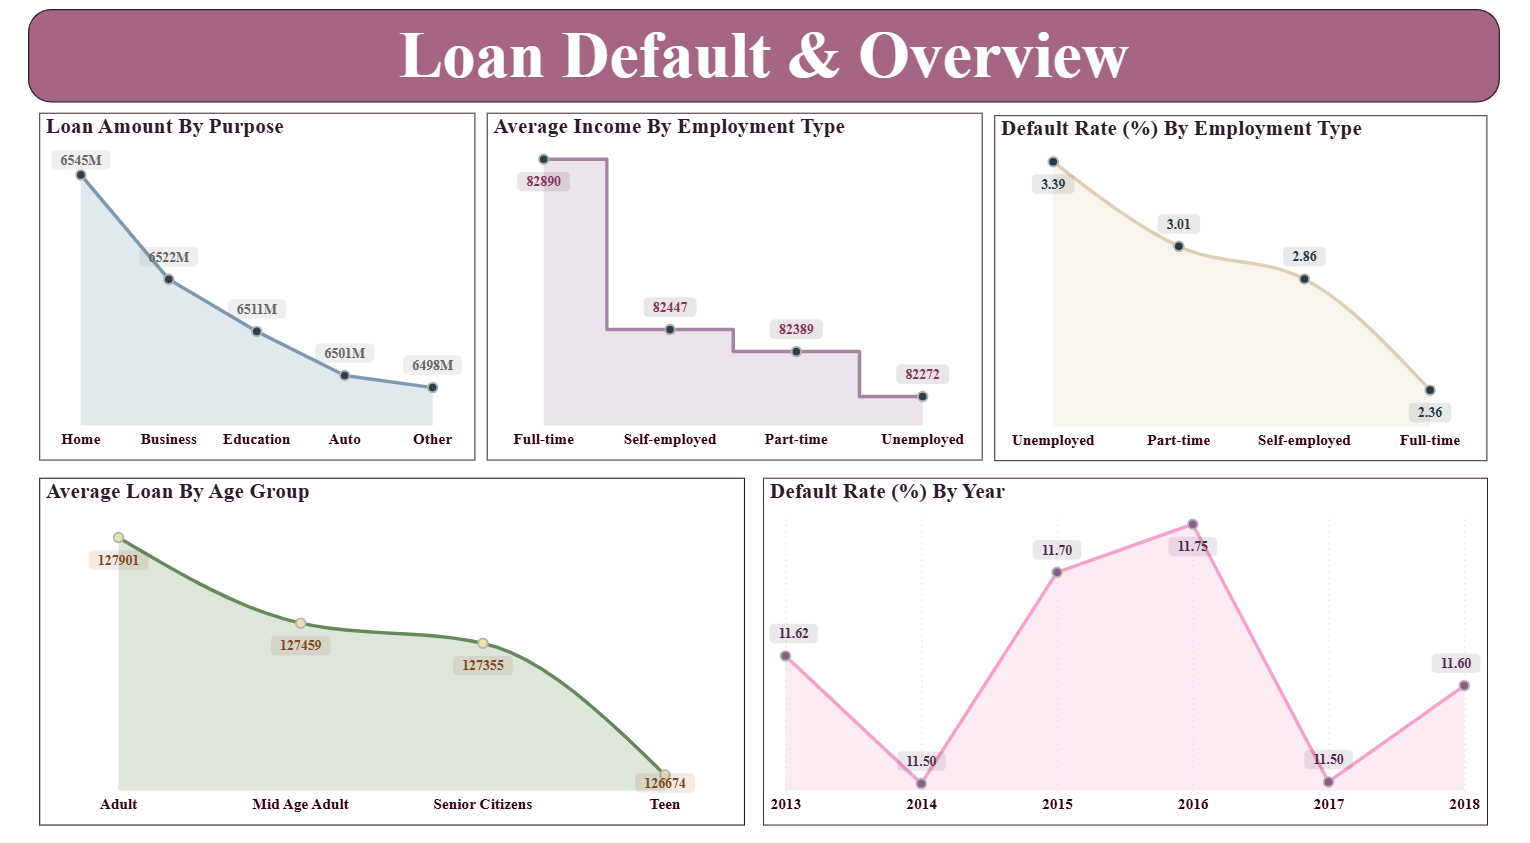

The page's visual inventory and layout, read from the dashboard file:
{"tool":"powerbi","page":{"name":"Loan Default & OverView","canvas":[1280,720],"ordinal":0},"visuals":[{"type":"shape","box":[0,0,1279.9,81.4],"z":0},{"type":"lineChart","title":"Loan Amount By Purpose ","fields":{"Y":["Measures Table 1.Loan Amount By Purpose"],"Category":["Loan_default.LoanPurpose"]},"box":[9.3,90.7,379.1,302.3],"z":1000},{"type":"lineChart","title":"Average Income By Employment Type","fields":{"Y":["Measures Table 1.Average Income By Employem Type"],"Category":["Loan_default.EmploymentType"]},"box":[398.8,90.7,431.4,302.3],"z":2000},{"type":"lineChart","title":"Default Rate (%) By Employment Type ","fields":{"Y":["Measures Table 1.Default Rate By Emplyoment Type"],"Category":["Loan_default.EmploymentType"]},"box":[840.7,91.9,429.1,301.2],"z":3000},{"type":"lineChart","title":"Average Loan By Age Group","fields":{"Y":["Measures Table 1.Average Loan By Age Group"],"Category":["Loan_default.Age Group"]},"box":[9.3,408.1,614,302.3],"z":4000},{"type":"lineChart","title":"Default Rate (%) By Year","fields":{"Y":["Measures Table 1.Default Rate By Year"],"Category":["Loan_default.Year"]},"box":[639.5,408.1,630.2,302.3],"z":5000}]}

Visuals, with their boxes in screenshot pixels (x1, y1, x2, y2), scaled from the page's 1280x720 canvas onto the 1530x843 screenshot:
shape: box=[0, 0, 1529, 95]
"Loan Amount By Purpose " lineChart: box=[11, 106, 464, 460]
"Average Income By Employment Type" lineChart: box=[477, 106, 992, 460]
"Default Rate (%) By Employment Type " lineChart: box=[1005, 108, 1518, 460]
"Average Loan By Age Group" lineChart: box=[11, 478, 745, 832]
"Default Rate (%) By Year" lineChart: box=[764, 478, 1518, 832]
